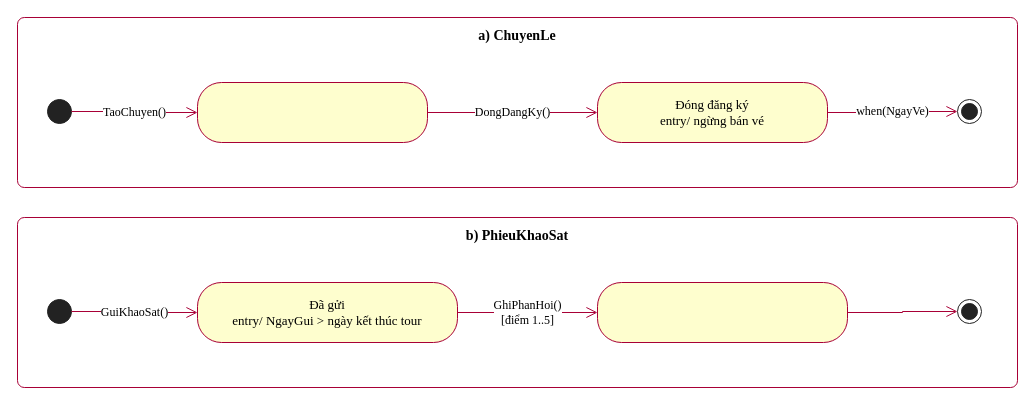
This 1035x405 diagram has some shape labels left out. Here are the shapes that lost their labels. From the top down, the centre of each, then its label:
At pixel 312 112: "Mở đăng ký do/ bán vé cho khách lẻ".
At pixel 722 312: "Đã phản hồi entry/ ghi DiemDanhGia, GopY".
